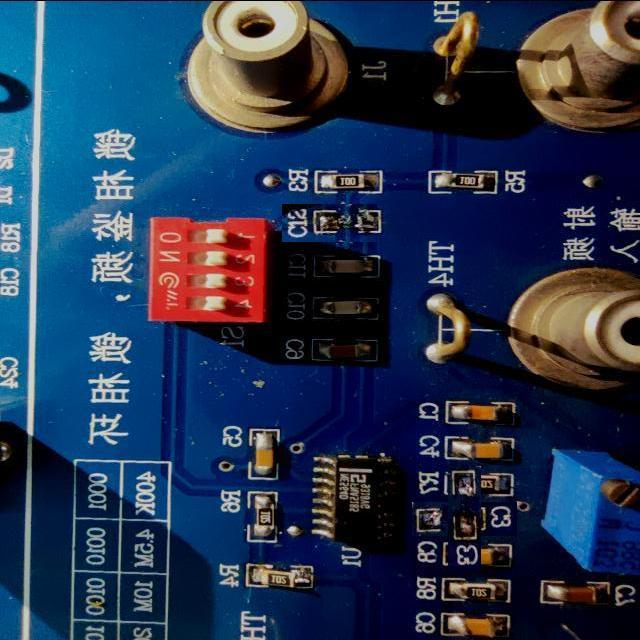miss_welding: (430, 484, 499, 554), (282, 205, 388, 242)
